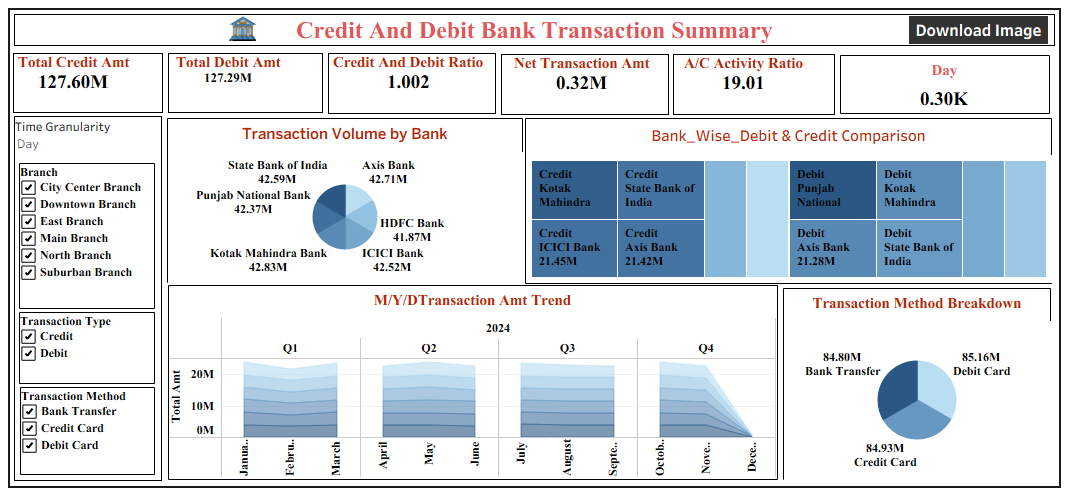

What the dashboard file says about the page in this screenshot:
{"tool":"tableau","page":{"name":"Dashboard 1","canvas":[1000,1000],"units":"permille","ordinal":0},"visuals":[{"type":"title","box":[9.3,20.2,981.3,80.7]},{"type":"image","param":"C:/Users/prasa/OneDrive/Pictures/OIP.jpg","box":[214.5,32.3,59.1,50.4]},{"type":"dashboard-object","box":[850.3,32.3,130,56.5]},{"type":"worksheet","title":"Total Credit Amount","mark":"Automatic","box":[12.2,106.9,140.3,121]},{"type":"worksheet","title":"Total Debit Amt","mark":"Automatic","box":[157.2,106.9,145,121]},{"type":"worksheet","title":"Credit And Debit Ratio","mark":"Automatic","box":[306.8,106.9,157.2,123]},{"type":"worksheet","title":"Net Transaction Amount","mark":"Automatic","box":[468.7,108.9,157.2,123]},{"type":"worksheet","title":"Account Activity Ratio","mark":"Automatic","box":[629.6,108.9,151.5,123]},{"type":"blank","box":[785.8,110.9,196.5,119]},{"type":"worksheet","title":"Transactions per Day/Week/Month","mark":"Automatic","box":[786.7,112.9,193.6,112.9]},{"type":"parameter","param":"[Parameters].[Parameter 1]","box":[13.1,233.9,138.5,735.9]},{"type":"worksheet","title":"Sheet 9","mark":"Pie","box":[156.2,237.9,333,332.7]},{"type":"worksheet","title":"Sheet 10","mark":"Automatic","box":[491.1,237.9,493,334.7]},{"type":"filter","title":"Sheet 12","param":"[federated.050sp9z1aps7o61biwozl15bpyhc].[none:Branch:nk]","box":[18.1,328.6,126.8,294.4]},{"type":"worksheet","title":"Sheet 12","mark":"Area","rows":["Calculation_163255541158834197"],"cols":["Transaction Date","Transaction Date","Transaction Date"],"box":[157.3,574.6,570.1,393.2]},{"type":"worksheet","title":"Sheet 13","mark":"Pie","box":[732.5,580.6,250.7,387.1]},{"type":"filter","title":"Sheet 10","param":"[federated.050sp9z1aps7o61biwozl15bpyhc].[none:Transaction Type:nk]","box":[18.1,629,126.8,145.2]},{"type":"filter","title":"Sheet 13","param":"[federated.050sp9z1aps7o61biwozl15bpyhc].[none:Transaction Method:nk]","box":[19.1,780.2,125.8,177.4]}]}

Visuals, with their boxes on the dashboard's canvas, which has no fixed pixel size, in thousandths of its width and height (x1, y1, x2, y2). These are canvas units, not pixel positions in the 1069x496 screenshot, which may show the page scaled, cropped or inside an application window:
title: region(9, 20, 991, 101)
image: region(214, 32, 274, 83)
dashboard-object: region(850, 32, 980, 89)
"Total Credit Amount" worksheet: region(12, 107, 152, 228)
"Total Debit Amt" worksheet: region(157, 107, 302, 228)
"Credit And Debit Ratio" worksheet: region(307, 107, 464, 230)
"Net Transaction Amount" worksheet: region(469, 109, 626, 232)
"Account Activity Ratio" worksheet: region(630, 109, 781, 232)
blank: region(786, 111, 982, 230)
"Transactions per Day/Week/Month" worksheet: region(787, 113, 980, 226)
parameter: region(13, 234, 152, 970)
"Sheet 9" worksheet (Pie marks): region(156, 238, 489, 571)
"Sheet 10" worksheet: region(491, 238, 984, 573)
"Sheet 12" filter: region(18, 329, 145, 623)
"Sheet 12" worksheet (Area marks): region(157, 575, 727, 968)
"Sheet 13" worksheet (Pie marks): region(732, 581, 983, 968)
"Sheet 10" filter: region(18, 629, 145, 774)
"Sheet 13" filter: region(19, 780, 145, 958)
